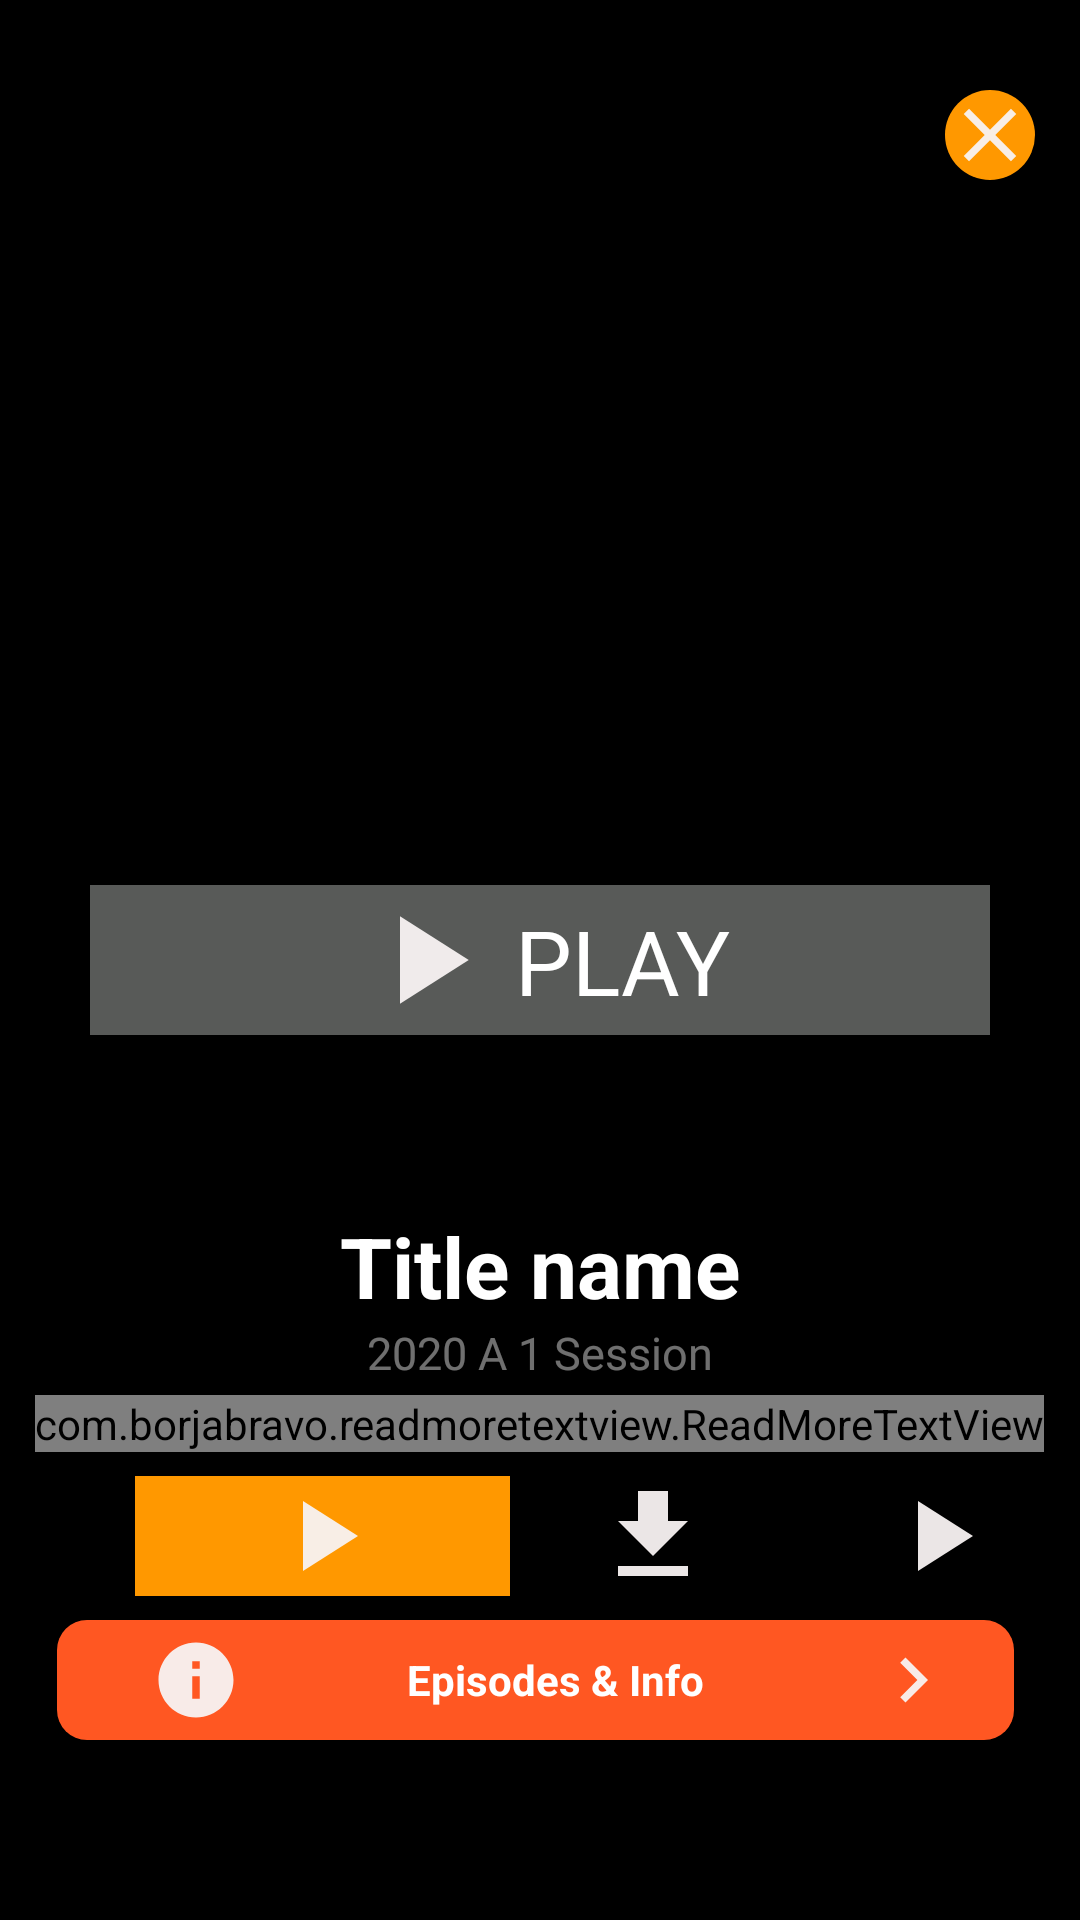

Where to tap for icons on this 1080w x 1920h app screen, as (x,y):
close: (990,135)
download: (653,1533)
rightarrow: (914,1680)
